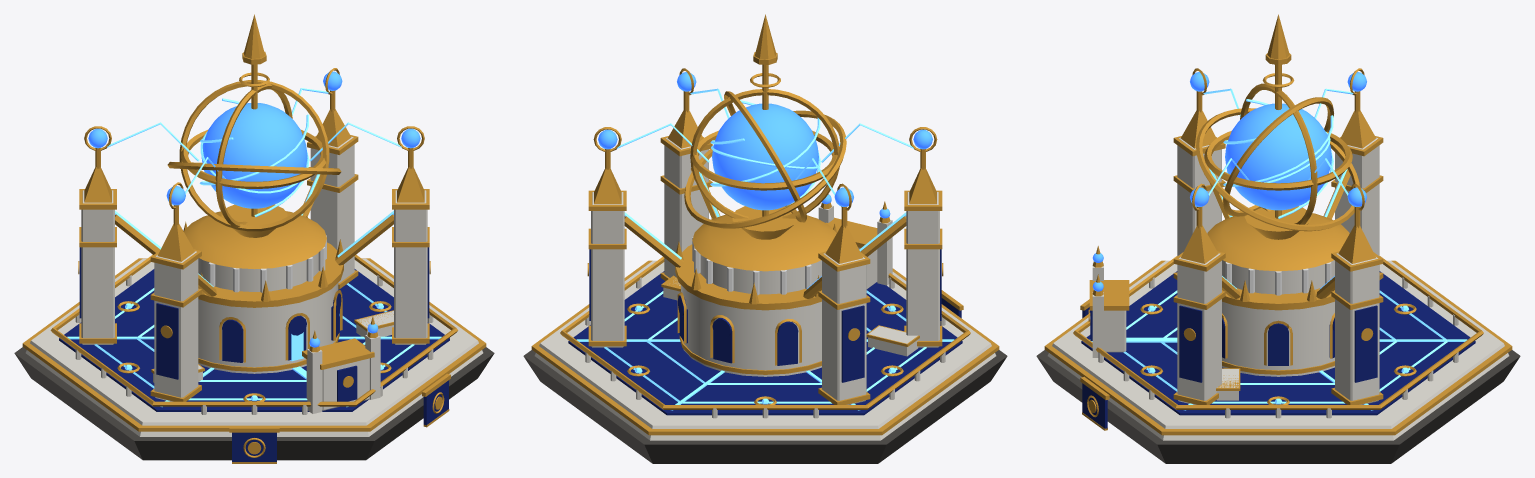
The model's file is zeus_zeus_command_nexus.glb.
3 renders of one model, left to right at view 1: azimuth 30°, elevation 25°; view 2: azimuth 150°, elevation 25°; view 3: azimuth 270°, elevation 25°, orthographic.
Visible parts, largest first — view 1: zeus_zeus_command_nexus; view 2: zeus_zeus_command_nexus; view 3: zeus_zeus_command_nexus.
Part boxes in pixels (left/top/right/bottom): zeus_zeus_command_nexus: left=14, top=14, right=494, bottom=463; zeus_zeus_command_nexus: left=523, top=14, right=1007, bottom=463; zeus_zeus_command_nexus: left=1036, top=14, right=1520, bottom=463.
Bounding box in the file's own units: 1.49 × 1.44 × 1.72.
1 material, 1 textured.
